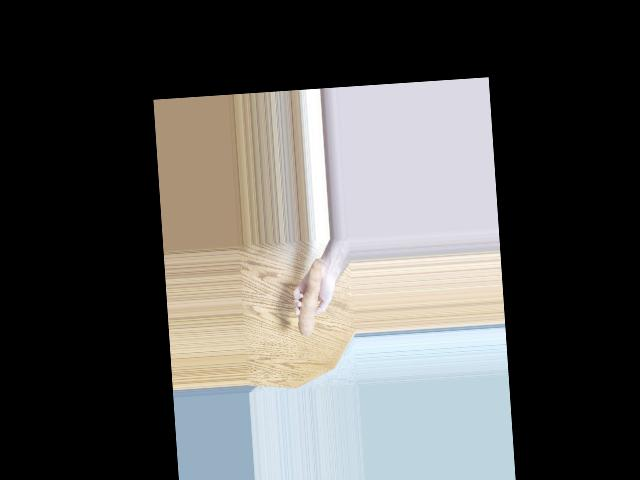sweet_potato: (292, 261, 325, 338)
